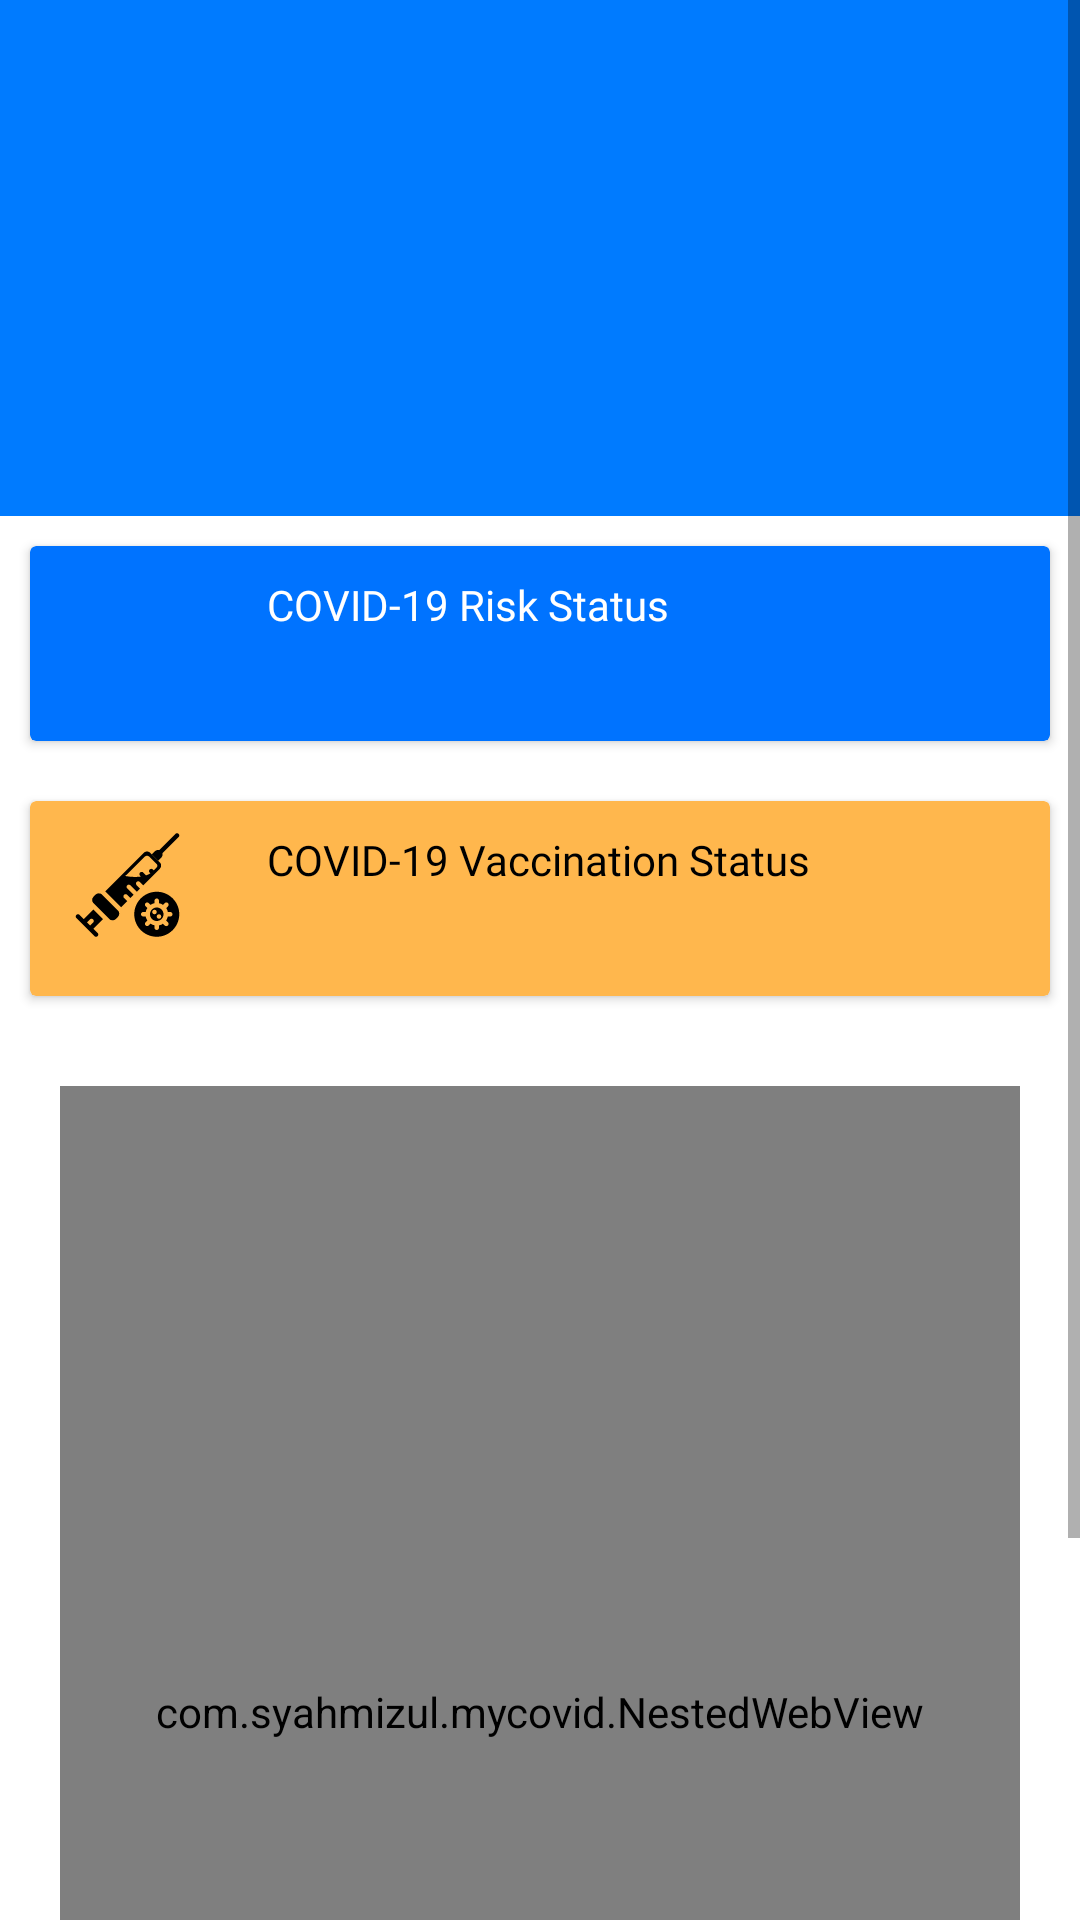

Screen size 1080px×1920px. Icon name, then its box in pixels as (x1, y1, x2, y2):
noun syringe virus: (75, 833, 180, 937)
